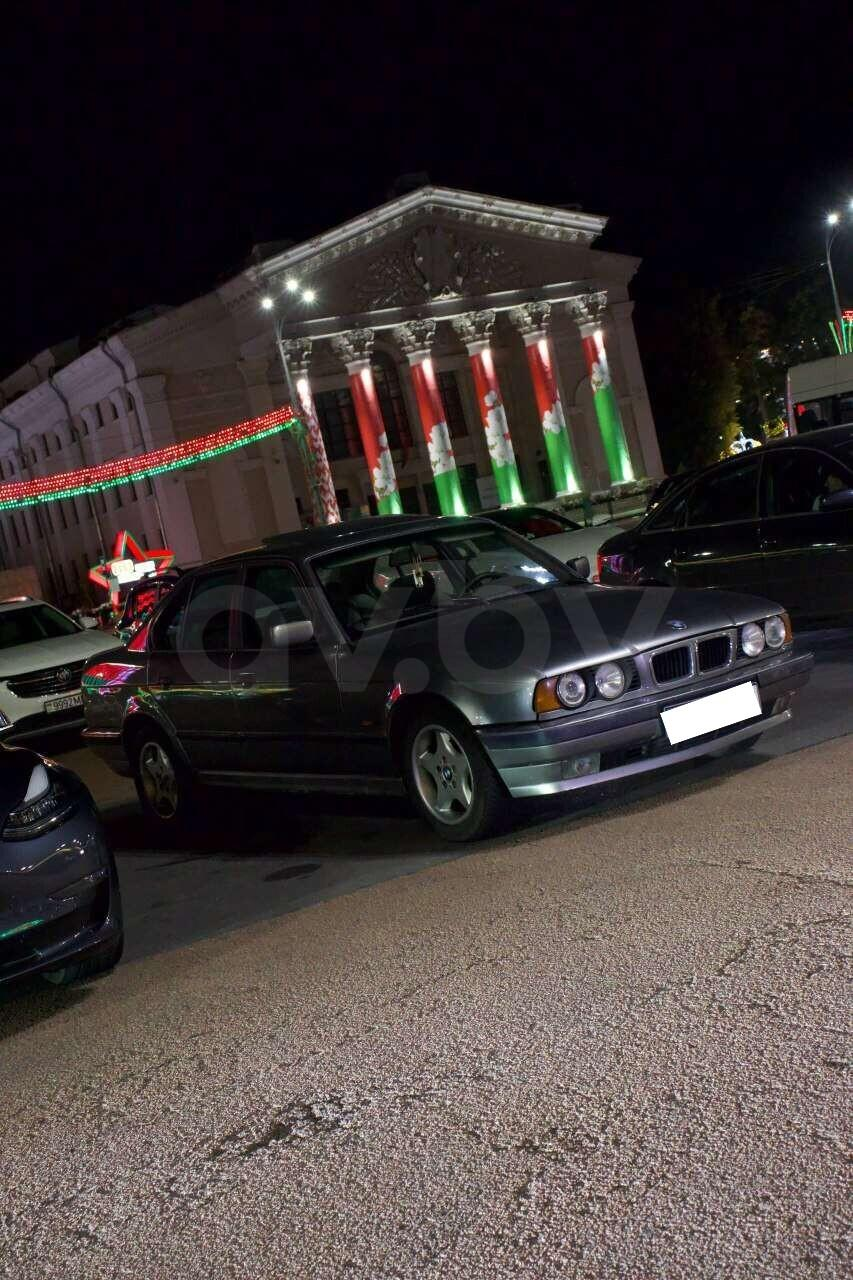BMW_E34_1995_2800: (78, 512, 823, 843)
